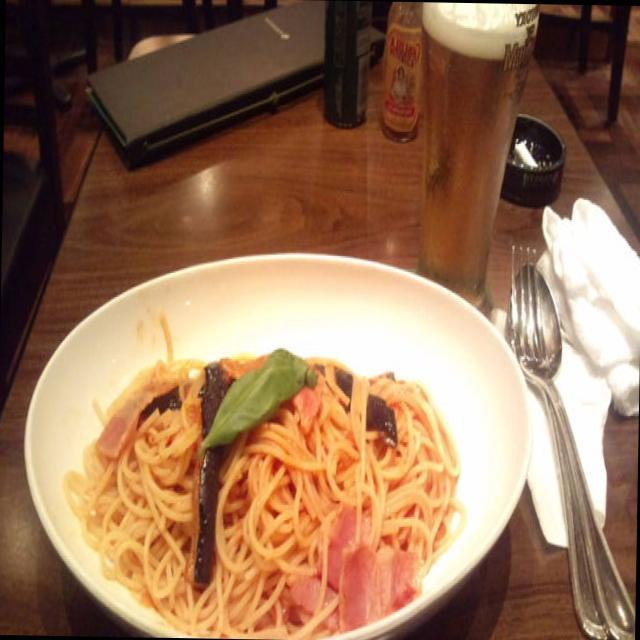Pasta: (58, 340, 462, 632)
